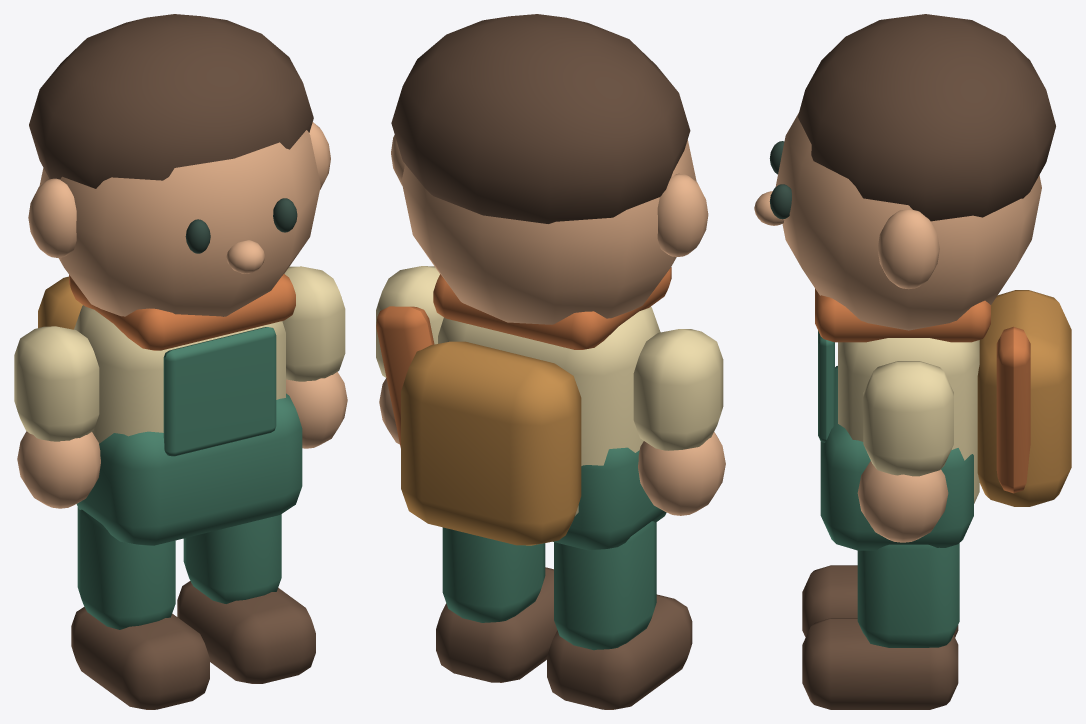
The model's file is ranger.glb.
The picture shows the model from 3 angles, left to right: view 1: azimuth 30°, elevation 25°; view 2: azimuth 150°, elevation 25°; view 3: azimuth 270°, elevation 25°; orthographic projection. The views are drawn at different scales.
Parts seen in each view (by area): view 1: hair_cap, head, overalls, bib, boot, boot.001, sleeve, trouser, body, trouser.001, sleeve.001, scarf (+8 smaller); view 2: hair_cap, backpack, head, body, trouser, sleeve, boot, trouser.001, boot.001, overalls, hand, scarf (+4 smaller); view 3: hair_cap, head, backpack, boot.001, trouser.001, sleeve.001, overalls, body, scarf_tail, hand.001, scarf, ear.001 (+4 smaller).
Boxes of the visible parts, x1,y1,x2,y2 form: hair_cap: [29, 14, 313, 188]; head: [39, 130, 320, 316]; overalls: [76, 393, 302, 545]; bib: [163, 327, 276, 456]; boot: [71, 606, 209, 709]; boot.001: [177, 581, 315, 683]; sleeve: [14, 326, 99, 441]; trouser: [77, 507, 175, 629]; body: [74, 305, 285, 443]; trouser.001: [183, 514, 281, 603]; sleeve.001: [282, 266, 345, 381]; scarf: [69, 274, 295, 350]; hair_cap: [391, 14, 690, 223]; backpack: [401, 341, 581, 545]; head: [401, 139, 696, 324]; body: [438, 306, 660, 515]; trouser: [554, 521, 656, 650]; sleeve: [633, 329, 723, 450]; boot: [547, 594, 692, 709]; trouser.001: [442, 527, 545, 622]; boot.001: [436, 567, 557, 682]; overalls: [553, 447, 666, 550]; hand: [638, 432, 725, 515]; scarf: [433, 267, 671, 349]; hair_cap: [798, 14, 1055, 221]; head: [775, 113, 1041, 330]; backpack: [977, 290, 1071, 506]; boot.001: [802, 618, 958, 709]; trouser.001: [857, 543, 959, 647]; sleeve.001: [863, 361, 953, 476]; overalls: [820, 366, 973, 550]; body: [838, 338, 979, 503]; scarf_tail: [996, 326, 1030, 493]; hand.001: [857, 461, 948, 542]; scarf: [815, 288, 990, 342]; ear.001: [877, 209, 939, 289].
Bounding box in the file's own units: 1.32 × 2.5 × 1.12.
